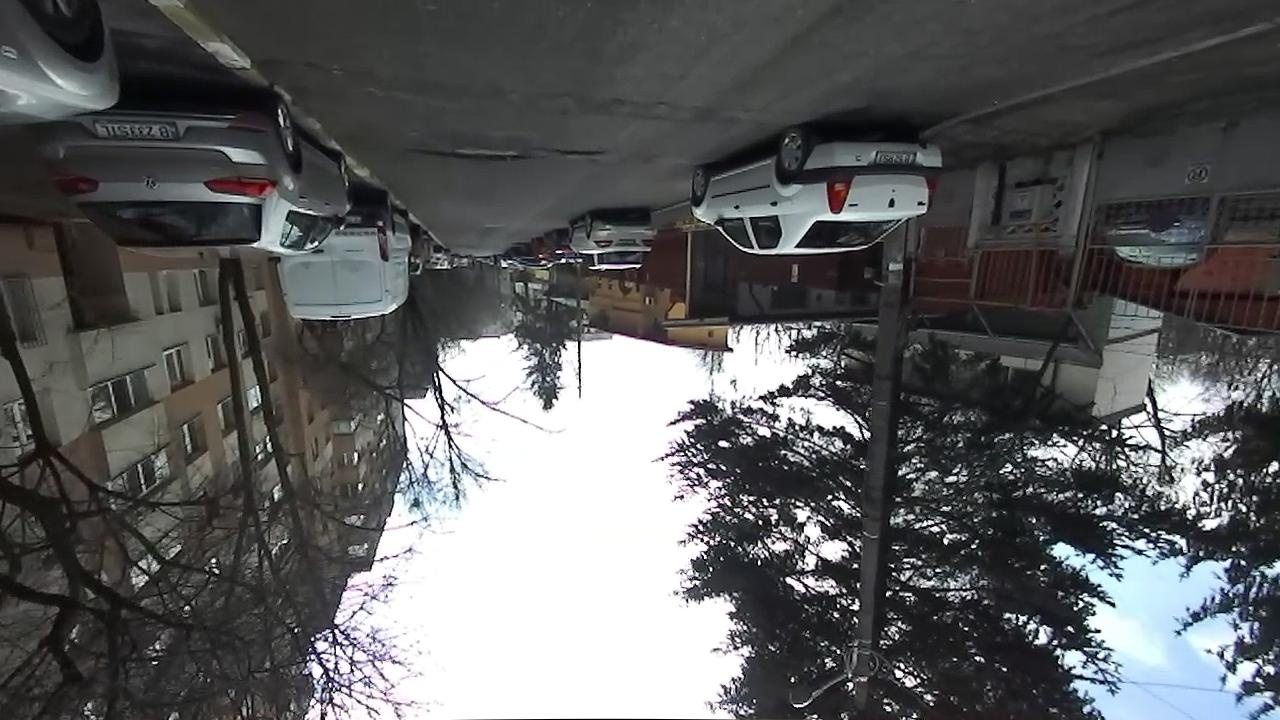pothole: (404, 142, 529, 163), (544, 146, 605, 159)
